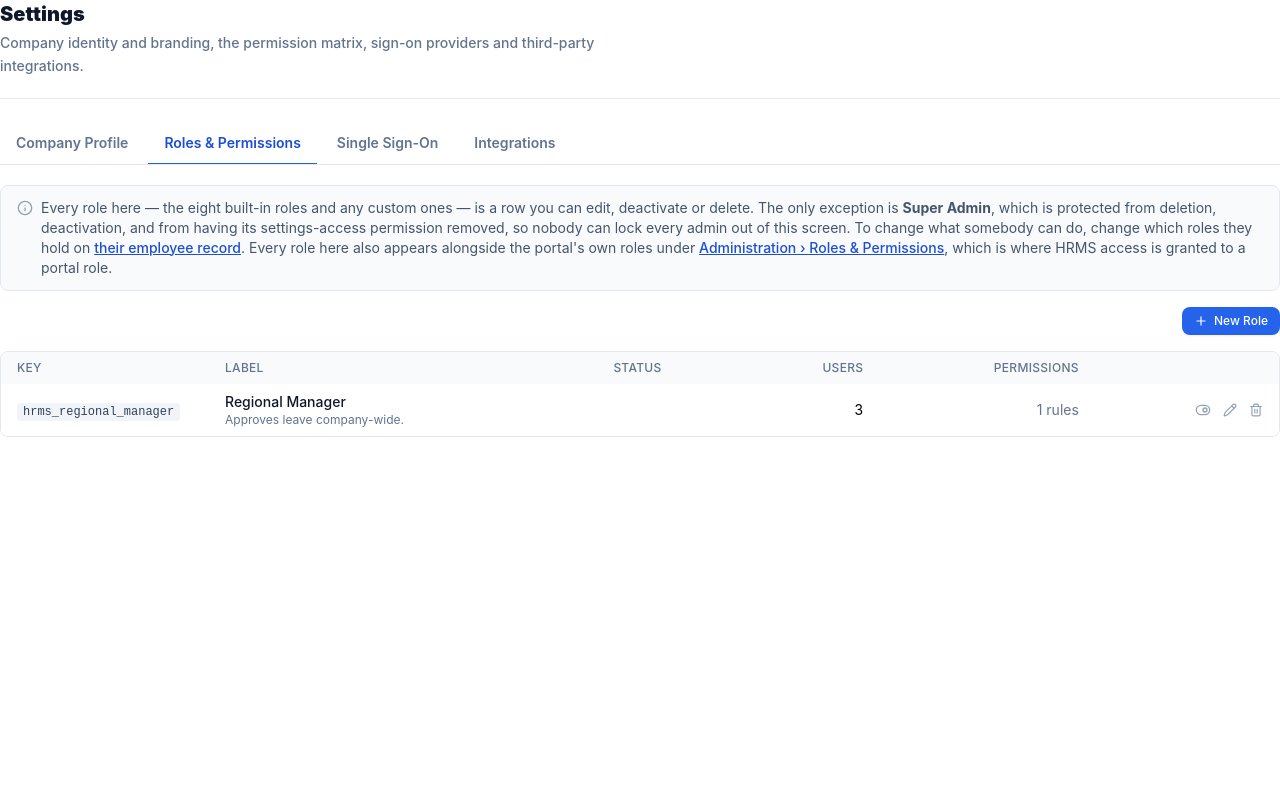
Test: roles and permissions › blocks the delete outright while the role is still assigned
Expected: the text "Regional Manager" is shown, 225,392 -> 346,410
Click the button named "delete regional manager" at (1256, 410), box 1249,402 -> 1263,416
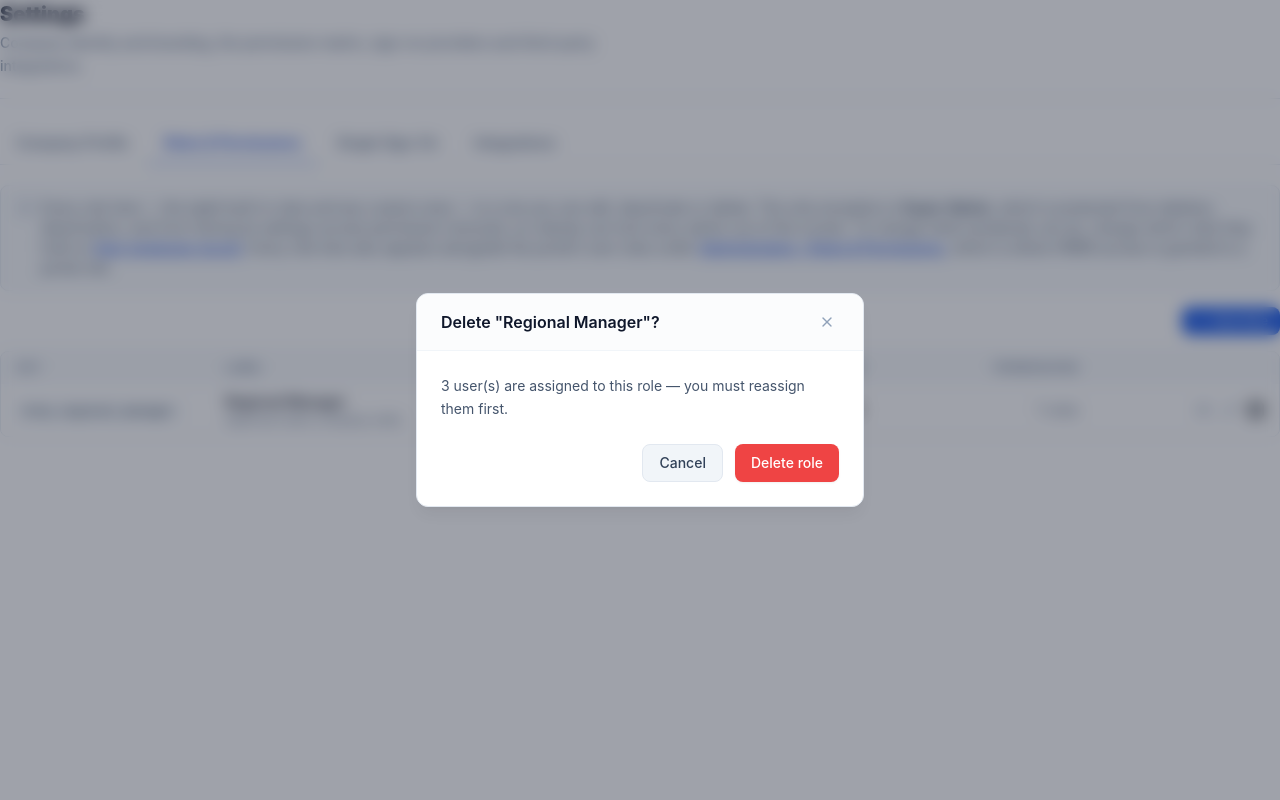
Result: the text "3 user(s) are assigned to this role" is shown at 441,377 -> 805,417
Result: the button "Delete role" is disabled at 735,444 -> 839,482
